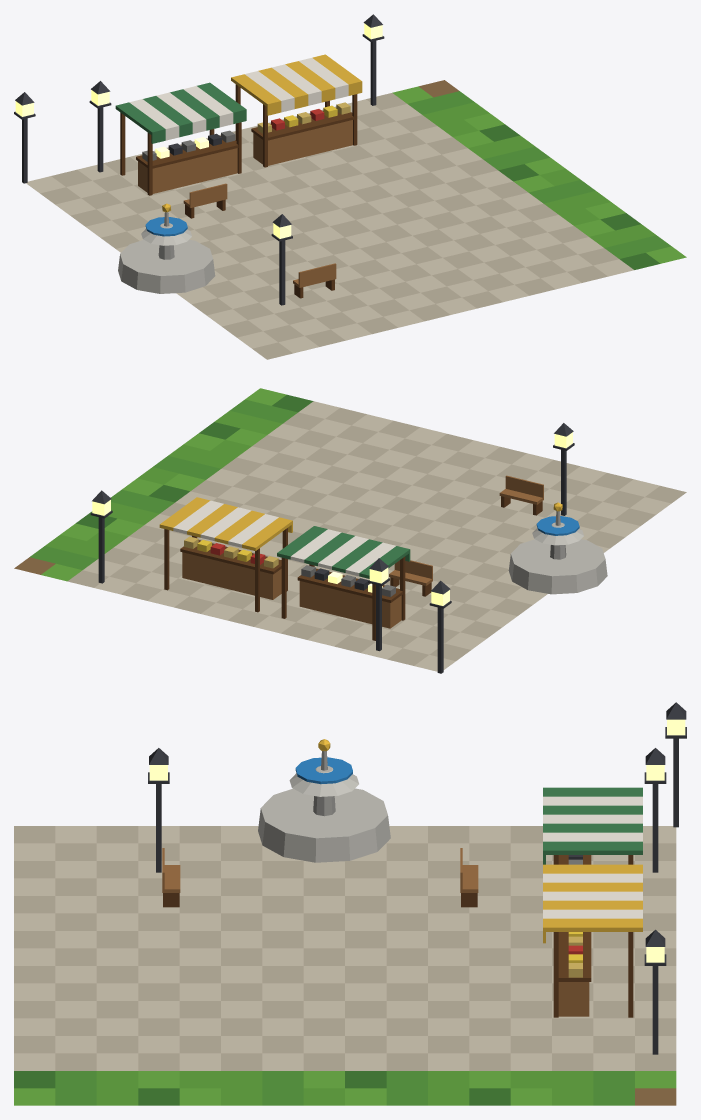
File: chunk_2_8.glb
The picture shows the model from 3 angles, top to bottom: view 1: azimuth 30°, elevation 25°; view 2: azimuth 150°, elevation 25°; view 3: azimuth 270°, elevation 25°; orthographic projection. The views are drawn at different scales.
Visible parts, largest first — view 1: chunk_2_8; view 2: chunk_2_8; view 3: chunk_2_8.
Boxes of the visible parts, box(x1,y1,x2,y2) form: chunk_2_8: box(14, 14, 686, 359); chunk_2_8: box(14, 388, 686, 673); chunk_2_8: box(14, 702, 686, 1105).
Bounding box in the file's own units: 17.11 × 3.3 × 16.26.
